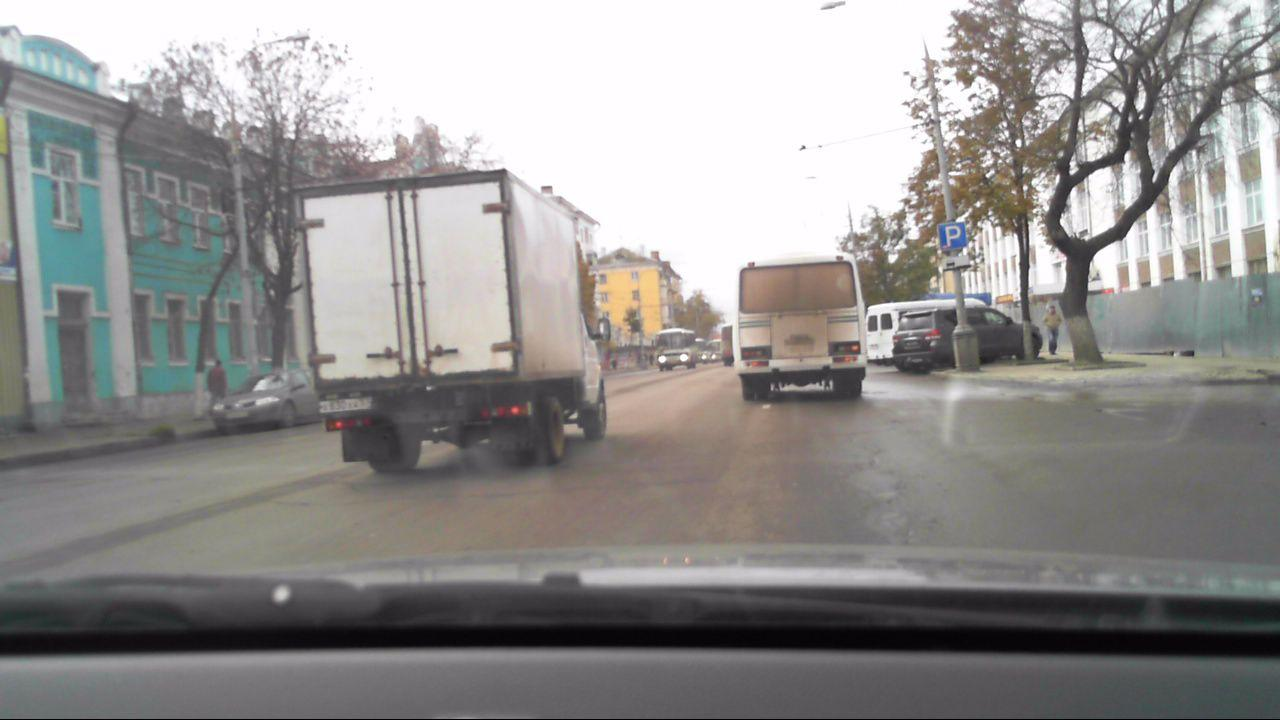6_4: (937, 219, 969, 249)
8_6_1: (938, 253, 969, 269)
